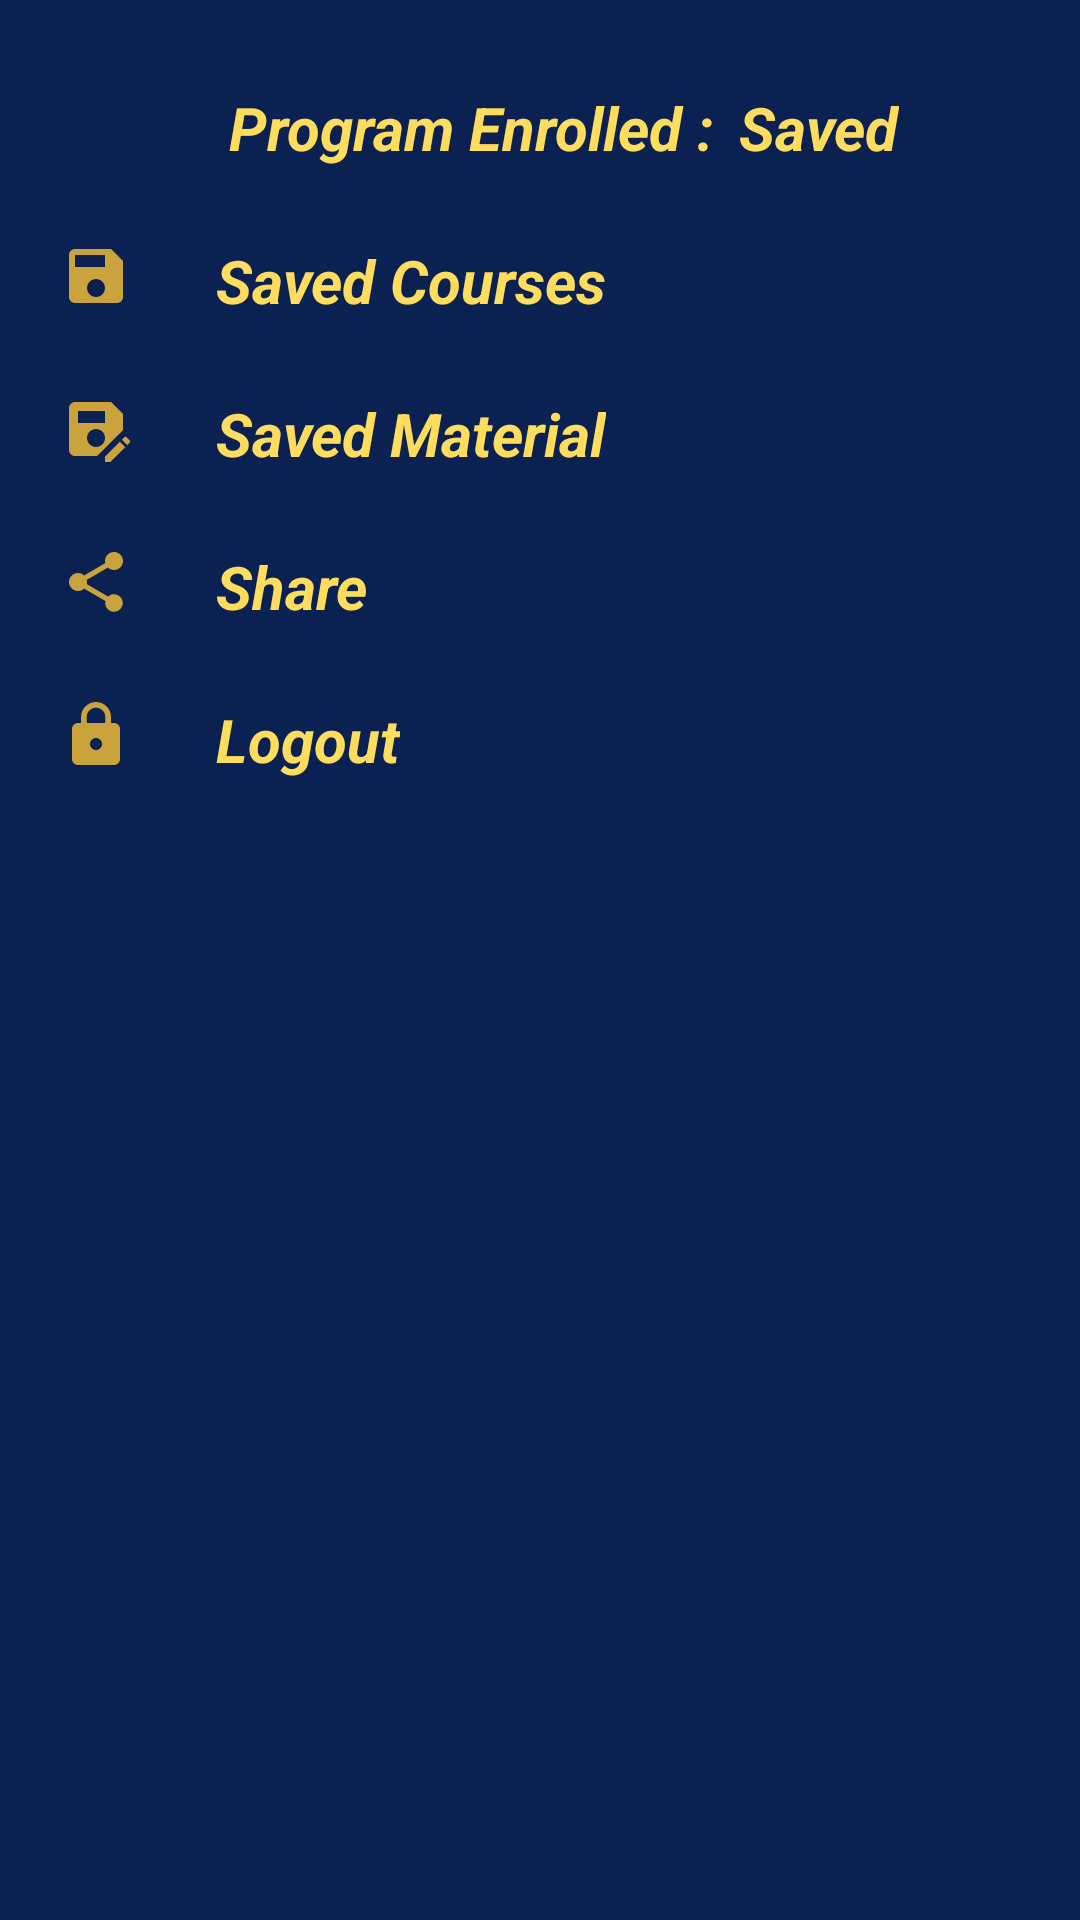

Named icons in this screenshot (1080 x 1920) and their bounding boxes, bbox(x1, y1, x2, y2):
lock: bbox(72, 702, 120, 765)
save as: bbox(69, 402, 131, 462)
